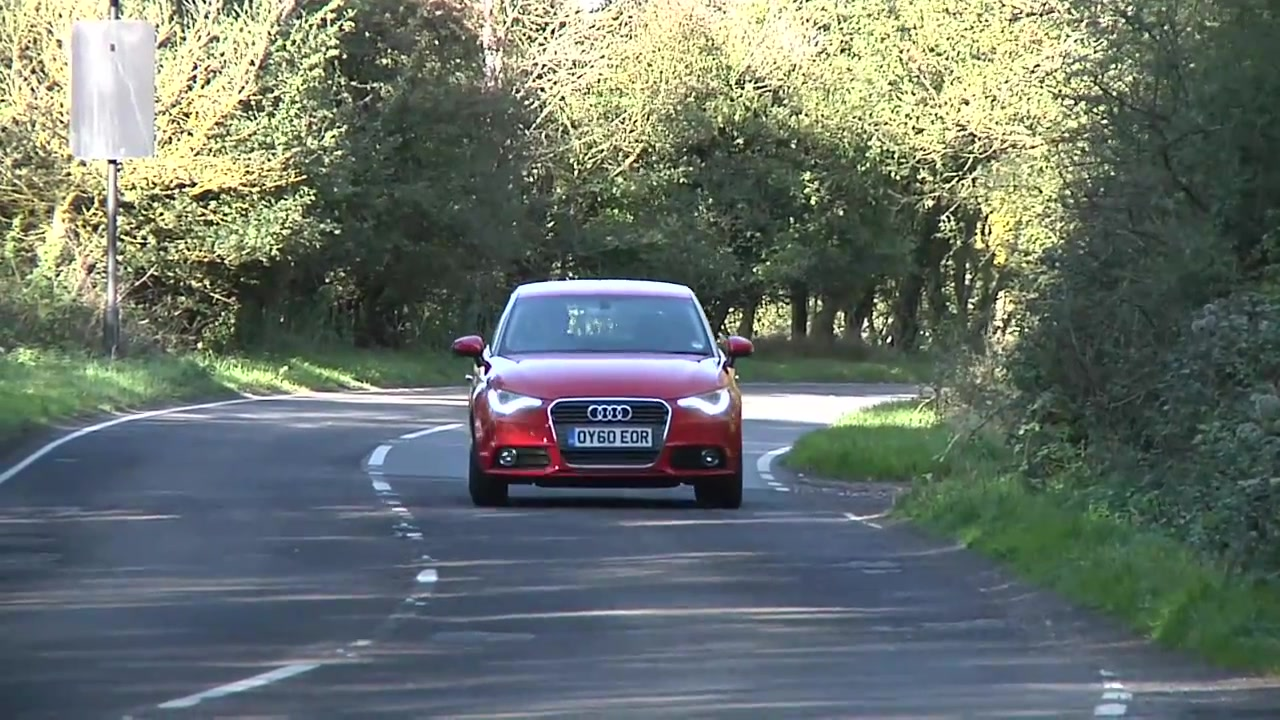car: (447, 278, 757, 513)
